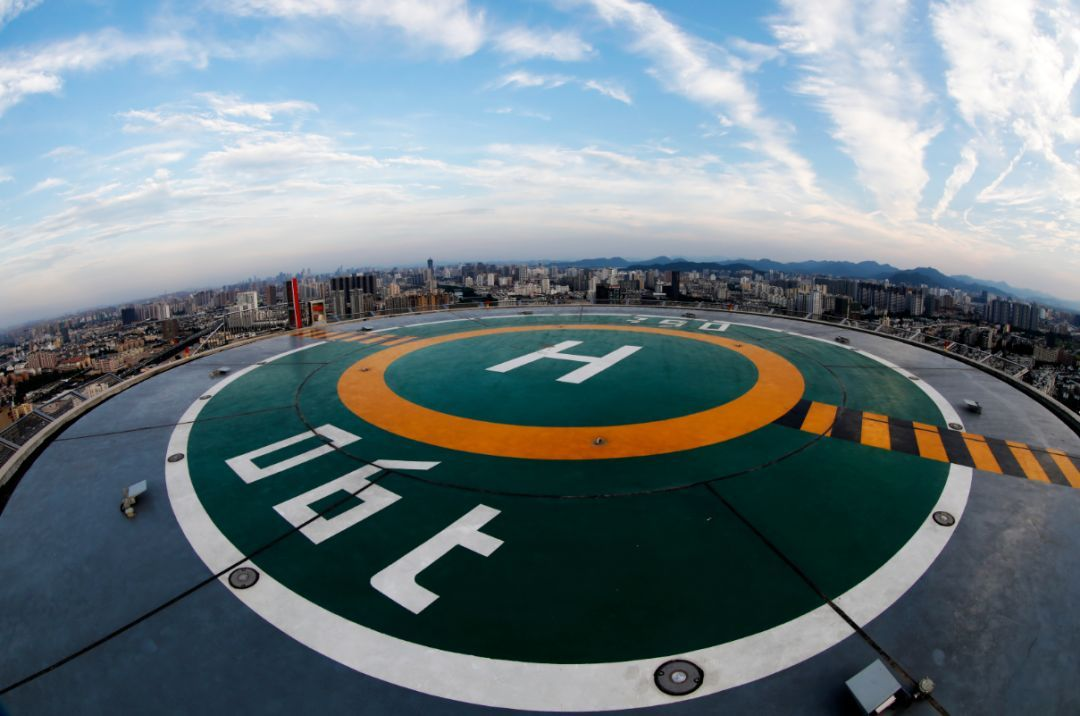H: (485, 339, 642, 384)
